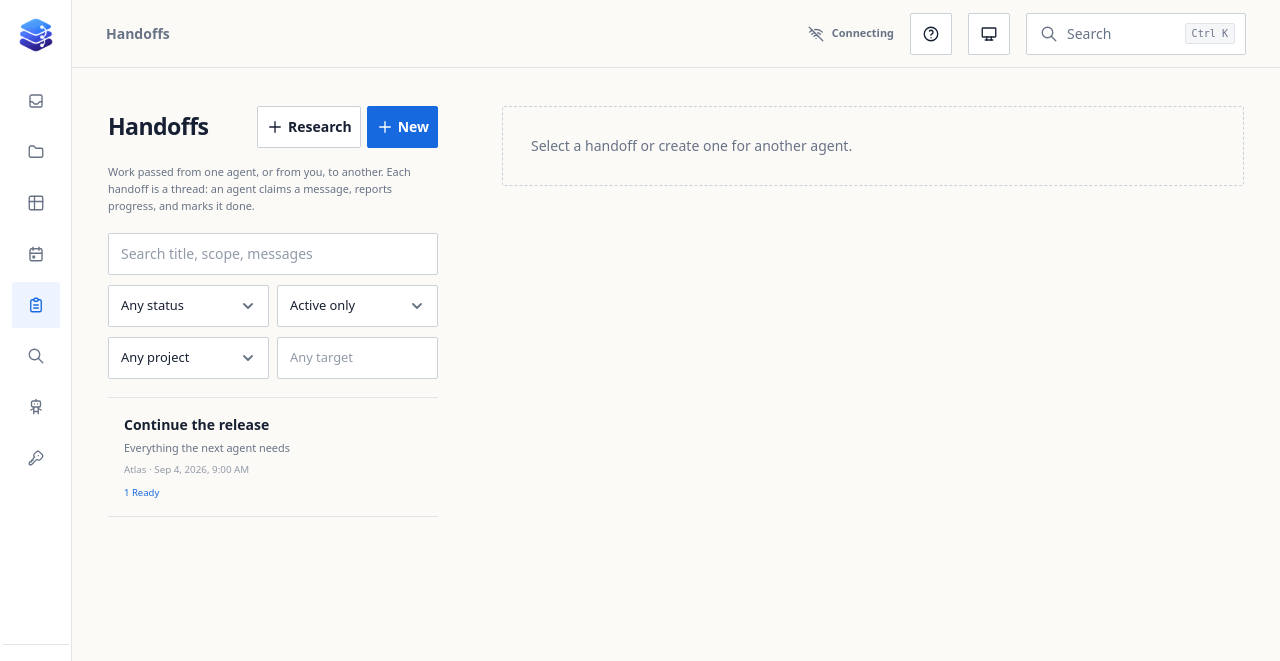
handoff inbox › opens a handoff with separate delivery and work states
Click the link "Continue the release" at (207, 457), box [124,415,290,499]
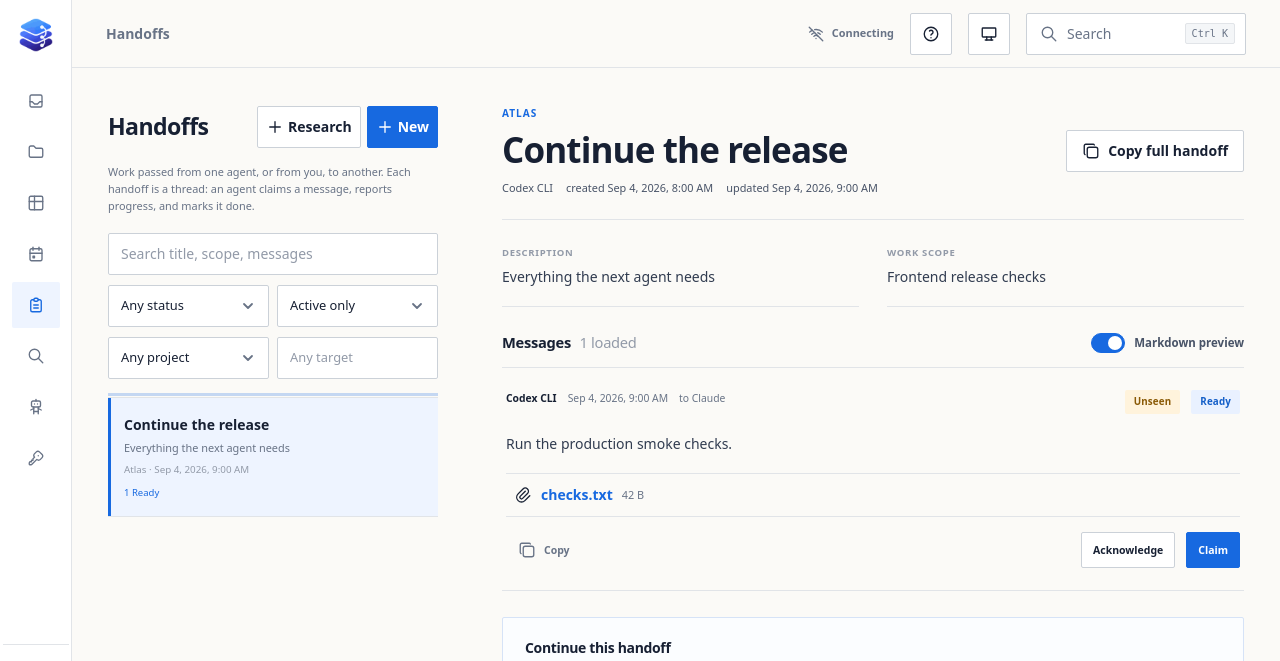
Expected: the heading "Continue the release" is shown, [502,126,848,173]
Expected: the text "Unseen" is shown, [1125,390,1180,414]
Expected: the text "Ready" is shown, [1191,390,1240,414]
